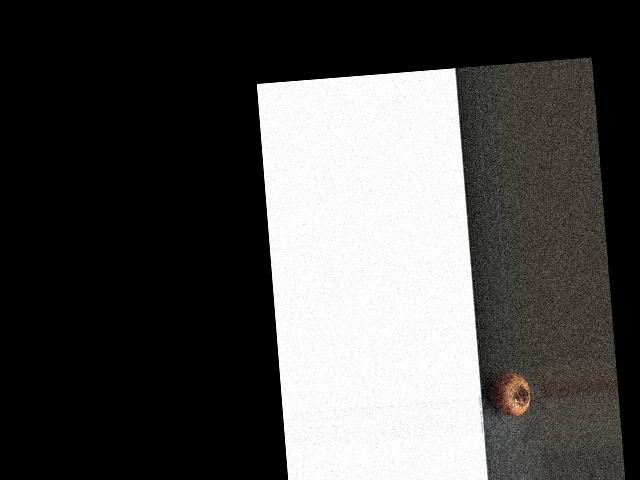beet: (488, 368, 531, 417)
